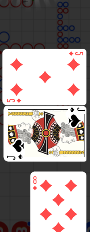5D: (5, 98, 22, 104)
8D: (31, 175, 38, 192)
